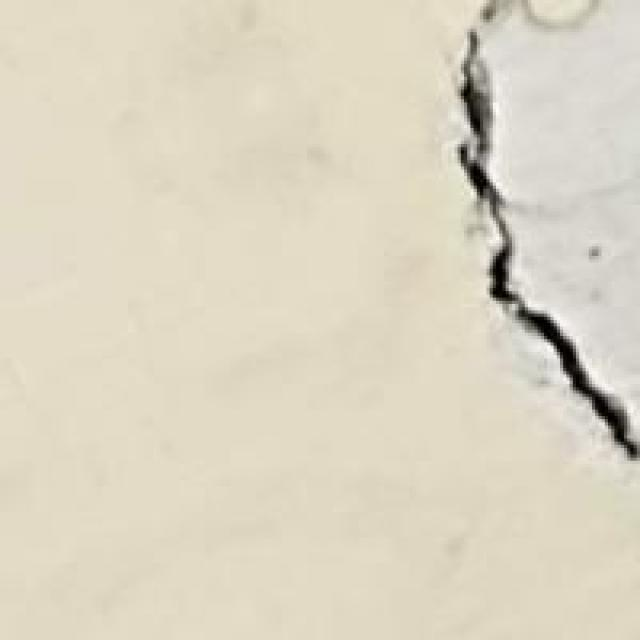Crack: (438, 0, 636, 496)
